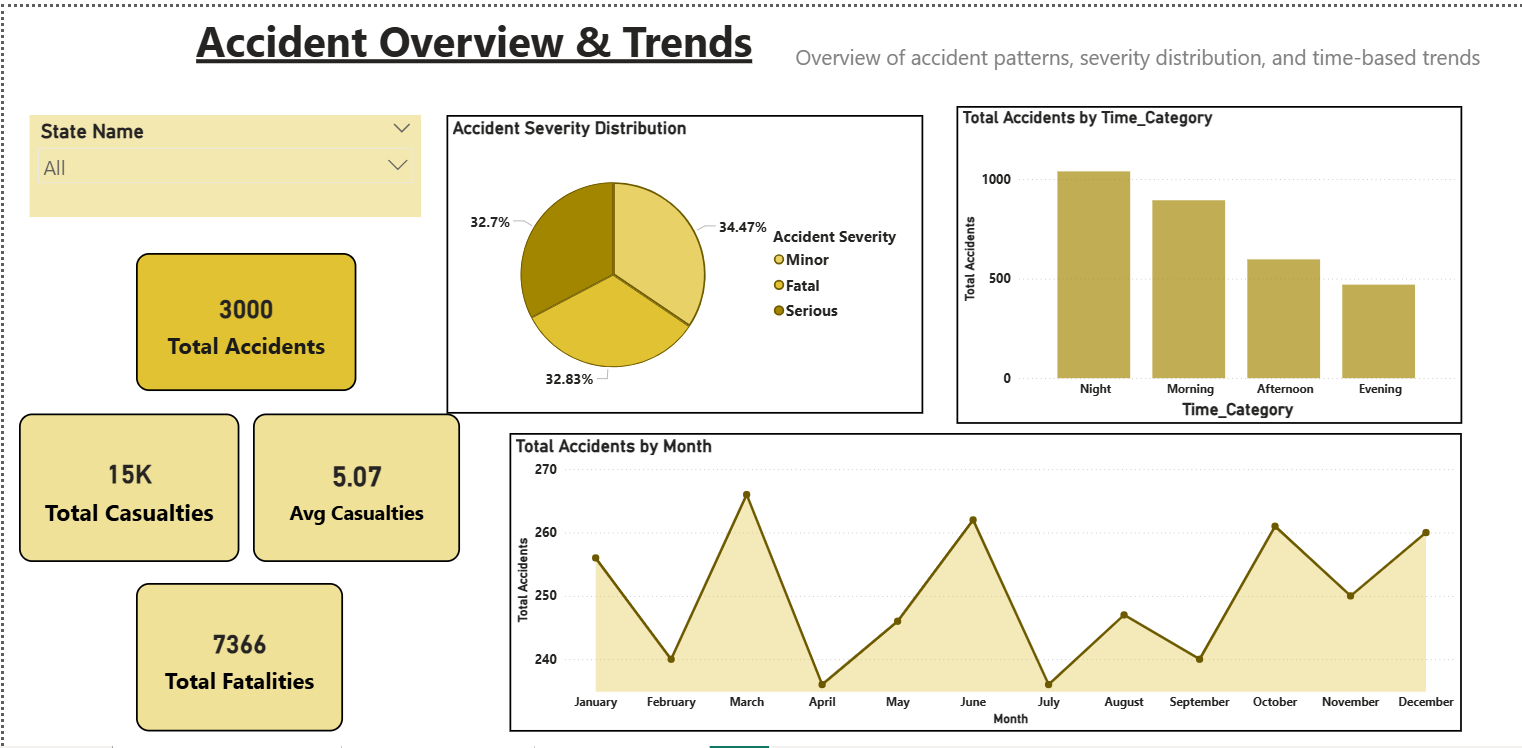

What the dashboard file says about the page in this screenshot:
{"tool":"powerbi","page":{"name":"Accident Occurrence","canvas":[1750,1750],"ordinal":0},"visuals":[{"type":"card","fields":{"Values":["accident_prediction_india.Total Casualties"]},"box":[17.2,467.2,253.4,170.7],"z":1000},{"type":"card","title":"Accidents by Day of Week","fields":{"Values":["accident_prediction_india.Total Fatalities"]},"box":[151.7,662.1,237.9,170.7],"z":2000},{"type":"card","fields":{"Values":["accident_prediction_india.Total Accidents"]},"box":[151.7,282.8,253.4,158.6],"z":2001},{"type":"pieChart","title":"Accident Severity Distribution","fields":{"Category":["accident_prediction_india.Accident Severity"],"Y":["accident_prediction_india.Total Accidents"]},"box":[508.6,124.1,548.3,343.1],"z":2003},{"type":"clusteredColumnChart","fields":{"Y":["accident_prediction_india.Total Accidents"],"Category":["accident_prediction_india.Time_Category"]},"box":[1094.8,113.8,581,365.5],"z":2004},{"type":"lineChart","fields":{"Category":["accident_prediction_india.Month"],"Y":["accident_prediction_india.Total Accidents"]},"box":[581,489.7,1094.8,343.1],"z":2005},{"type":"slicer","fields":{"Values":["accident_prediction_india.State Name"]},"box":[29.3,124.1,450,117.2],"z":2006},{"type":"textbox","box":[900,17.2,806.9,89.7],"z":2007},{"type":"textbox","box":[142,0,18,18],"z":2010},{"type":"textbox","box":[215.5,0,658.6,87.9],"z":2011},{"type":"card","fields":{"Values":["accident_prediction_india.Avg Casualties"]},"box":[286.2,467.2,237.9,170.7],"z":2013}]}

Visuals, with their boxes on the page's 1750x1750 design canvas (x1, y1, x2, y2). These are canvas units, not pixel positions in the 1522x748 screenshot, which may show the page scaled, cropped or inside an application window:
card - accident_prediction_india.Total Casualties: (17,467,271,638)
"Accidents by Day of Week" card: (152,662,390,833)
card - accident_prediction_india.Total Accidents: (152,283,405,441)
"Accident Severity Distribution" pieChart: (509,124,1057,467)
clusteredColumnChart - accident_prediction_india.Total Accidents x accident_prediction_india.Time_Category: (1095,114,1676,479)
lineChart - accident_prediction_india.Month x accident_prediction_india.Total Accidents: (581,490,1676,833)
slicer - accident_prediction_india.State Name: (29,124,479,241)
textbox: (900,17,1707,107)
textbox: (142,0,160,18)
textbox: (216,0,874,88)
card - accident_prediction_india.Avg Casualties: (286,467,524,638)
